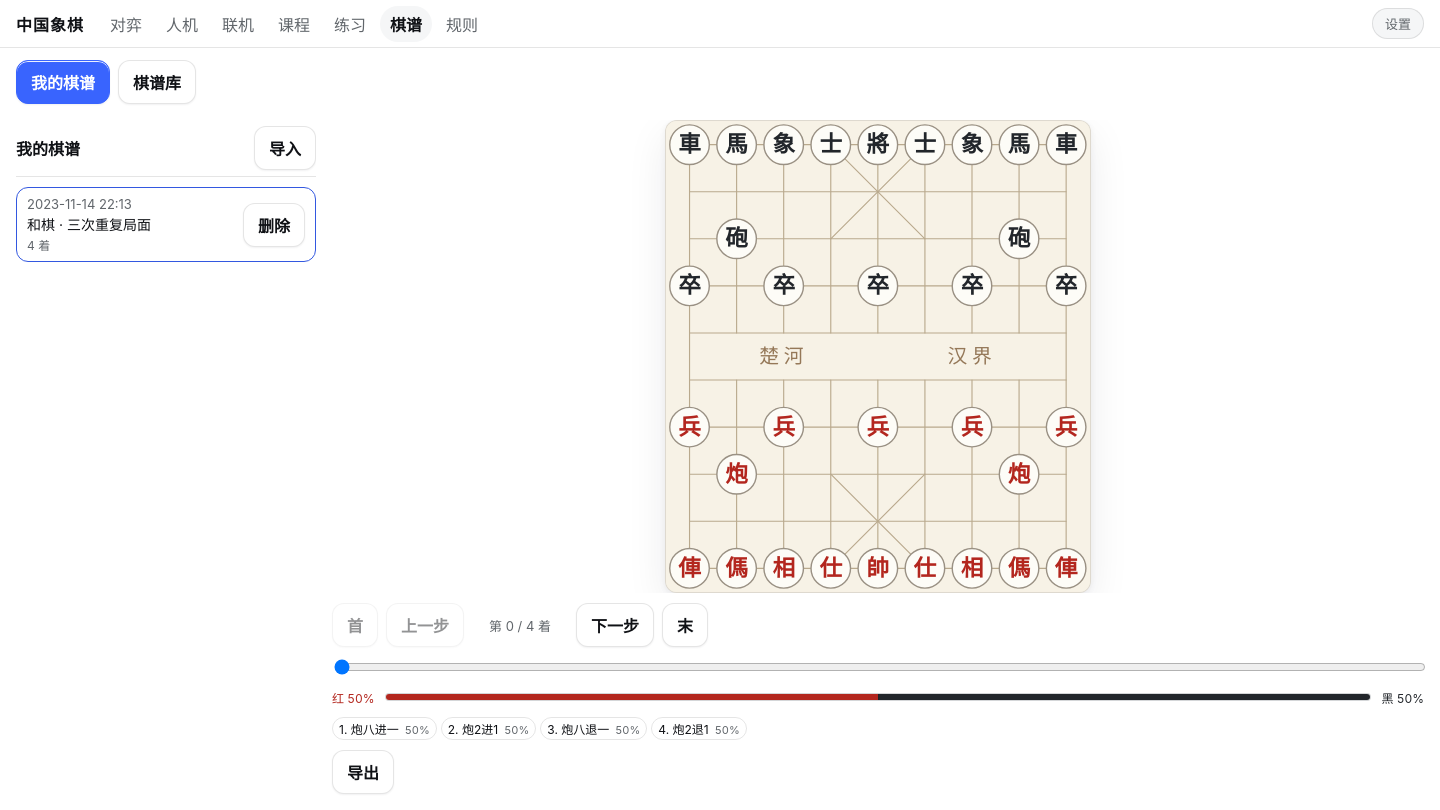
Test: F1-5 棋谱回放 › 回放可停在任意一步，末步与滑条一致
The width and height of the screenshot is (1440, 810).
Expected: the text "第 0 / 4 着" is shown, [489,618,551,634]
Click the button "下一步". click: (615, 625)
box: [576,603,654,647]
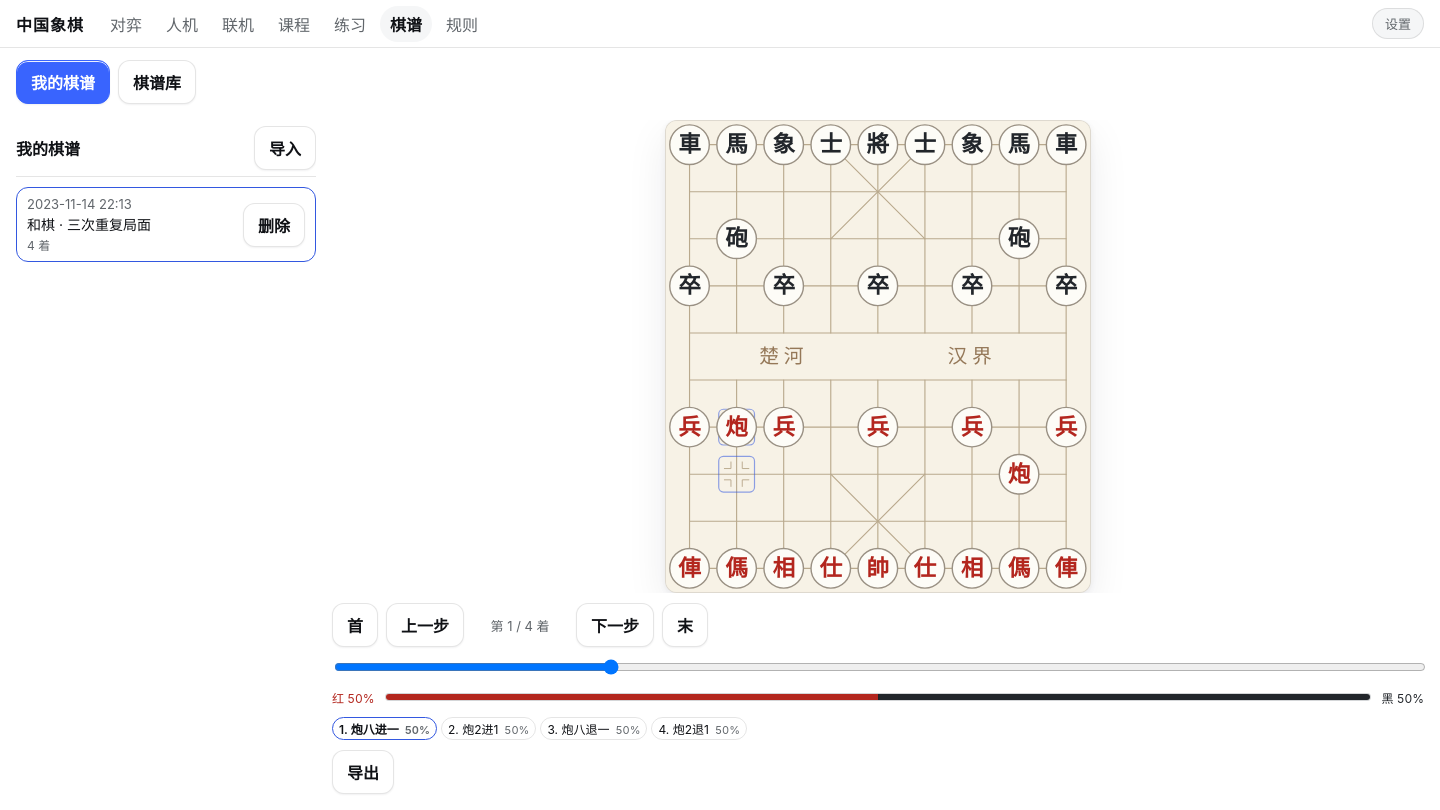
Expected: the button with class "replay-move" shows "炮八进一", [332,717,437,740]
Now the text "第 1 / 4 着" is shown, box [490,618,550,634]
Set the slider named "回放步数" to "3". click: (1149, 667)
box: [334,659,1426,675]
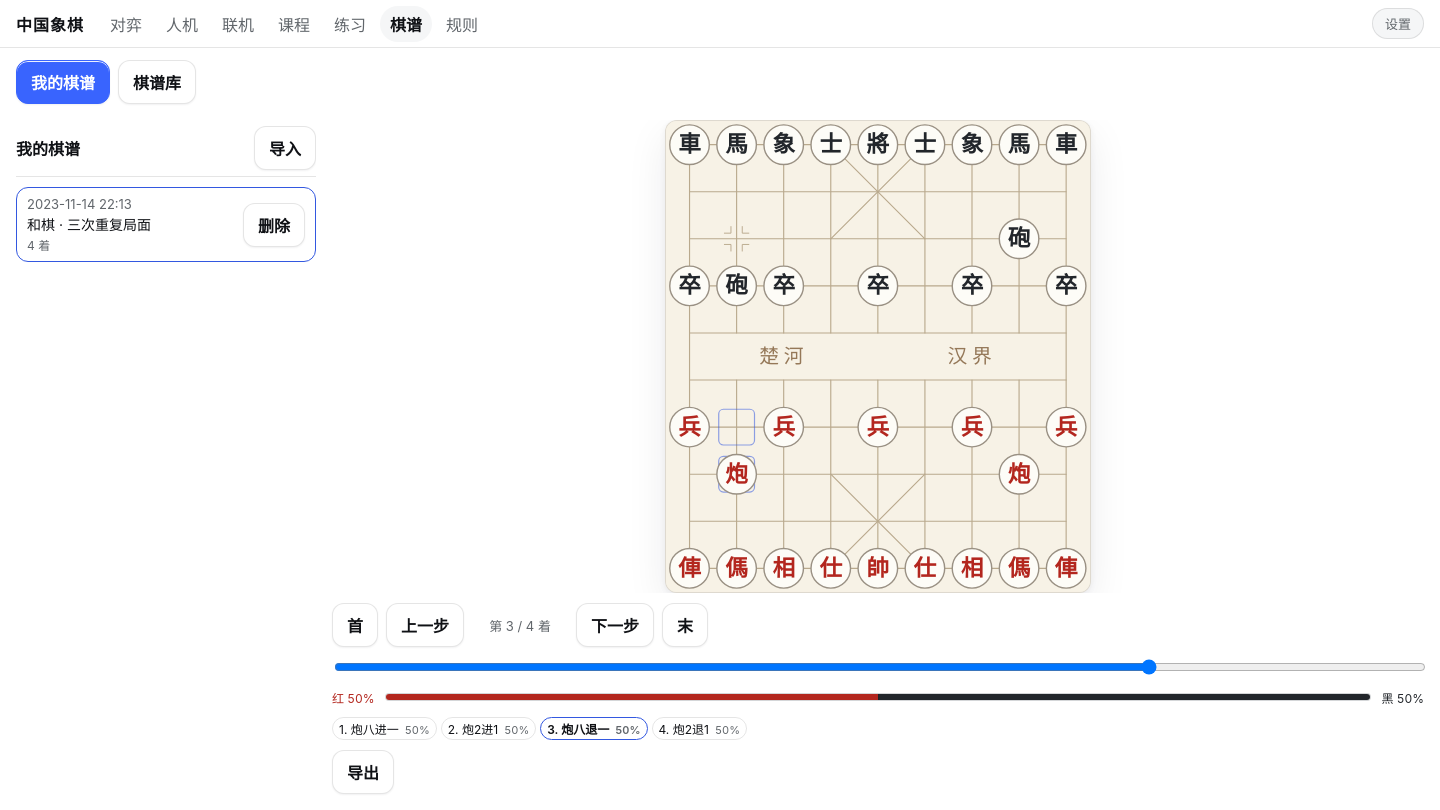
Now the text "第 3 / 4 着" is shown, box [489,618,551,634]
Click the button "末". click: (685, 625)
box: [662,603,708,647]
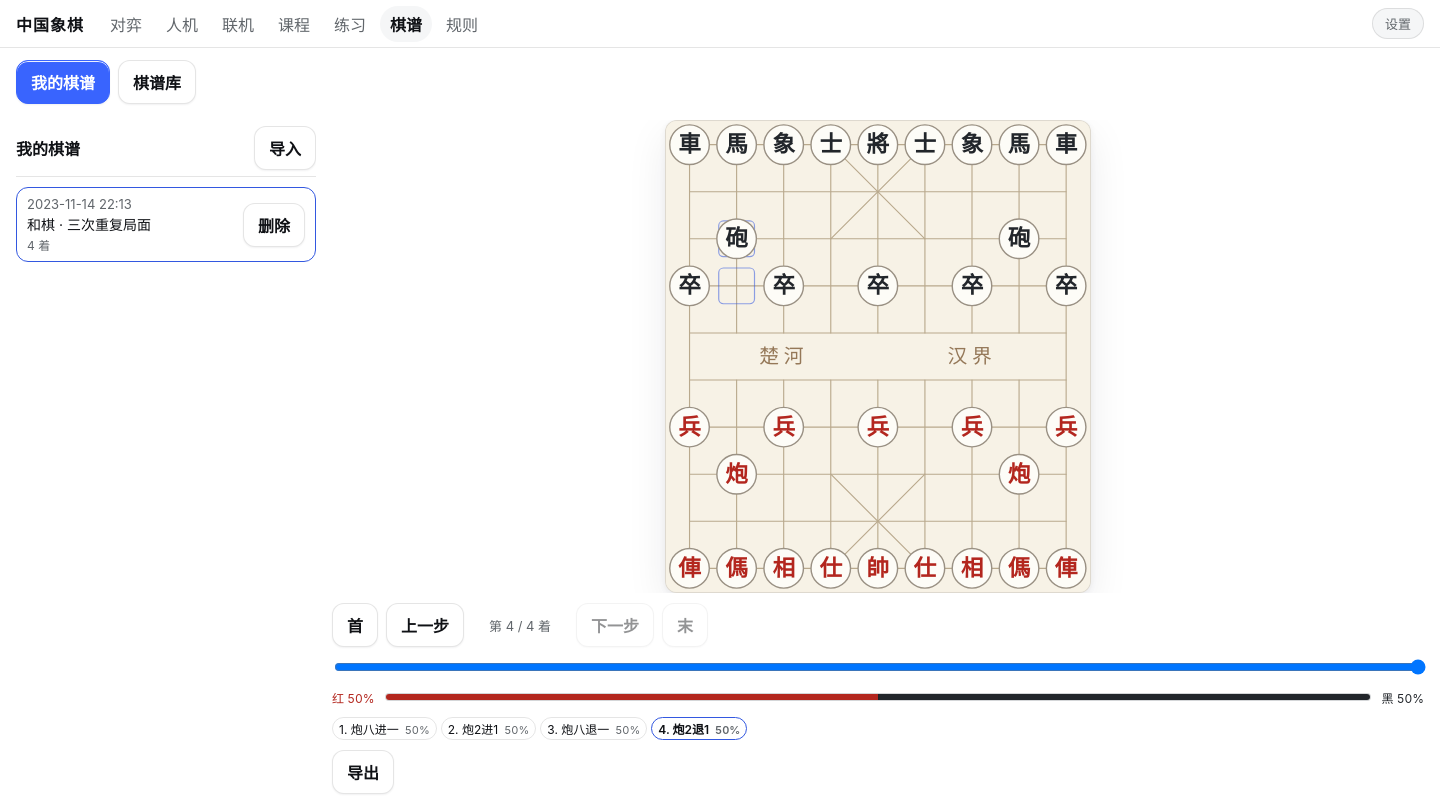
Expected: the number of buttons with class "replay-move" is 4, [332,717,437,740]; [441,717,536,740]; [540,717,647,740]; [651,717,747,740]
Now the text "第 4 / 4 着" is shown, box [489,618,551,634]
